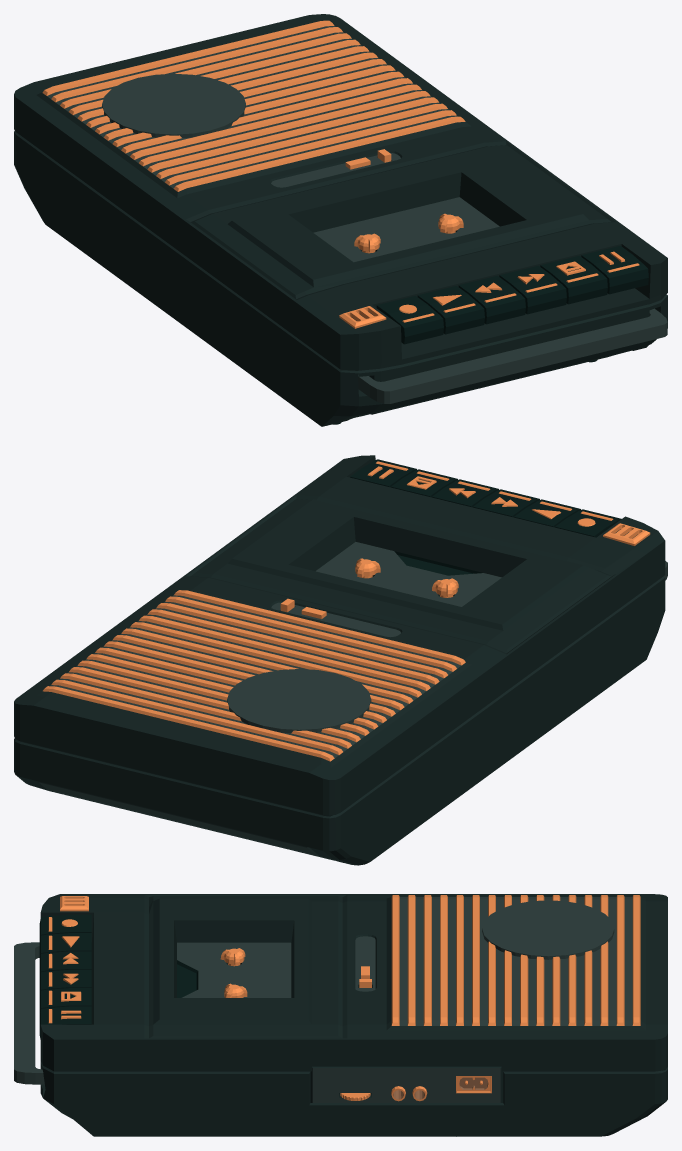
File: voice_recorder.glb
The picture shows the model from 3 angles, top to bottom: view 1: azimuth 30°, elevation 25°; view 2: azimuth 150°, elevation 25°; view 3: azimuth 270°, elevation 25°; orthographic projection. The views are drawn at different scales.
Parts seen in each view (by area): view 1: Cylinder.010, Cube.006, Cylinder.001, Cylinder.011, Cube.015, Cube.013, Cube.012, Cube.014, Cube.003, Cylinder.006, Cube; view 2: Cylinder.010, Cylinder.001, Cube.004, Cylinder.011, Cube.015, Cube.012, Cube.013, Cube.014, Cube.003, Cylinder.006, Cube; view 3: Cylinder.010, Cylinder.001, Cube.006, Cylinder.011, Cube.014, Cube.015, Cube.013, Cube.003, Cube.012, Cylinder.006, Cube.
Part boxes in pixels (x1,y1,x2,y2): Cylinder.010: [14, 14, 667, 426]; Cube.006: [358, 308, 667, 403]; Cylinder.001: [102, 73, 245, 137]; Cylinder.011: [376, 295, 443, 344]; Cube.015: [458, 275, 525, 324]; Cube.013: [540, 255, 607, 304]; Cube.012: [581, 245, 648, 294]; Cube.014: [499, 265, 566, 314]; Cube.003: [417, 286, 484, 334]; Cylinder.006: [354, 213, 463, 253]; Cube: [339, 306, 386, 328]; Cylinder.010: [14, 455, 665, 865]; Cylinder.001: [227, 669, 371, 733]; Cube.004: [38, 781, 333, 860]; Cylinder.011: [555, 509, 621, 537]; Cube.015: [473, 489, 539, 517]; Cube.012: [350, 459, 416, 487]; Cube.013: [391, 469, 457, 497]; Cube.014: [432, 479, 498, 507]; Cube.003: [514, 499, 580, 527]; Cylinder.006: [355, 558, 458, 597]; Cube: [603, 523, 650, 545]; Cylinder.010: [40, 894, 667, 1136]; Cylinder.001: [482, 900, 614, 959]; Cube.006: [14, 942, 44, 1084]; Cylinder.011: [39, 914, 91, 941]; Cube.014: [39, 969, 91, 996]; Cube.015: [39, 951, 91, 977]; Cube.013: [39, 988, 91, 1014]; Cube.003: [39, 933, 91, 959]; Cube.012: [39, 1006, 91, 1039]; Cylinder.006: [220, 948, 247, 997]; Cube: [60, 896, 88, 911].
Size of the model in its own units: 113 by 40.03 by 208.
